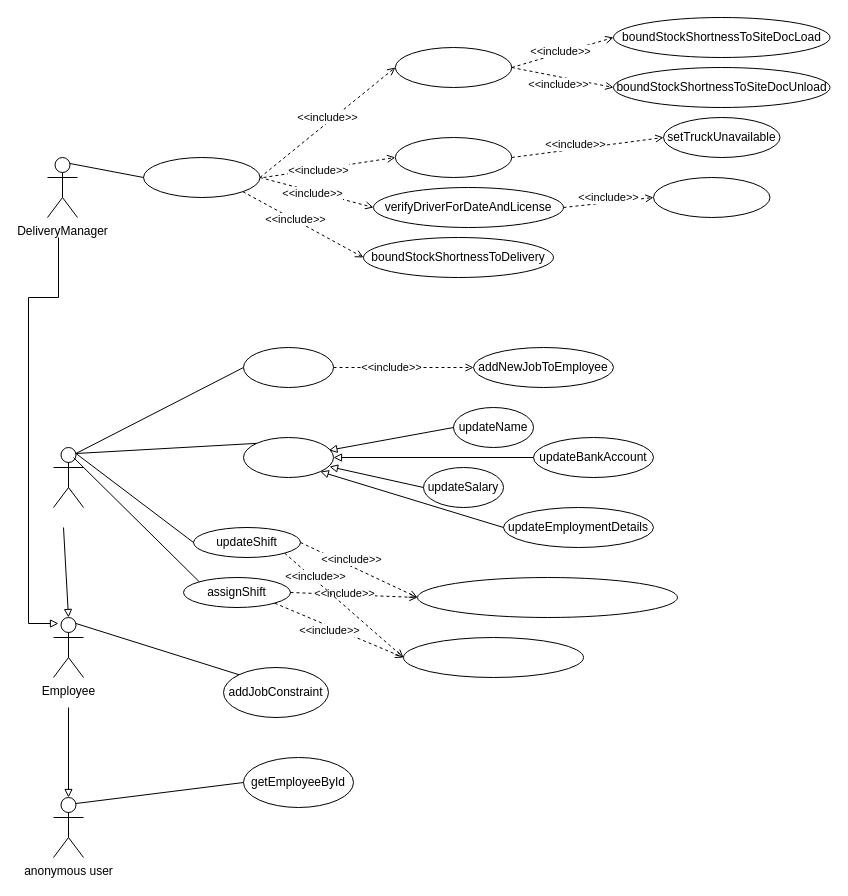
Image size: 848x896. Some labels were removed from this diagram. The shapes that lost their labels are listed below. From the top down, each one's box as (x1, y1, x2, y2) in pixels, then its label:
(394, 46, 512, 88): createSiteDoc
(142, 156, 260, 198): createNewDelivery
(394, 136, 512, 178): verifyTruck
(652, 176, 770, 218): setDriverUnavailable
(242, 346, 334, 388): addEmployee
(52, 446, 84, 508): HR manager
(242, 436, 334, 478): updateEmployee
(416, 576, 678, 618): validateJobConstraintsOfEmpoyeesForShift
(402, 636, 584, 678): validEmployeedInShiftJob
